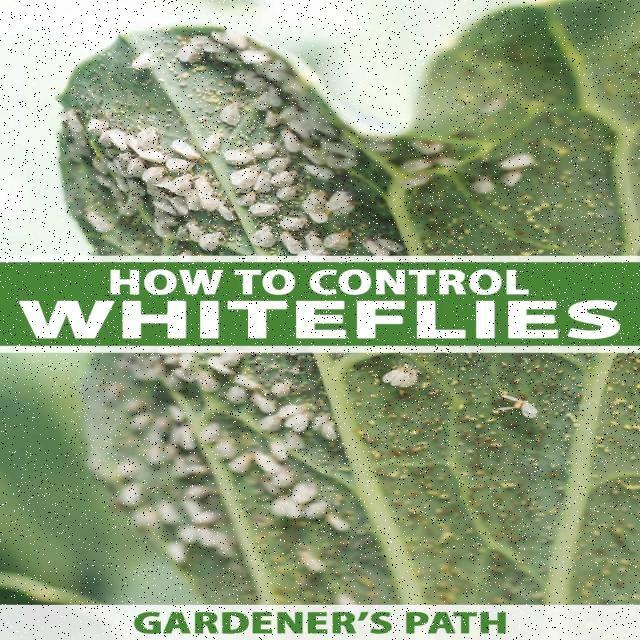Whiteflies: (49, 347, 488, 604), (28, 35, 501, 257)
